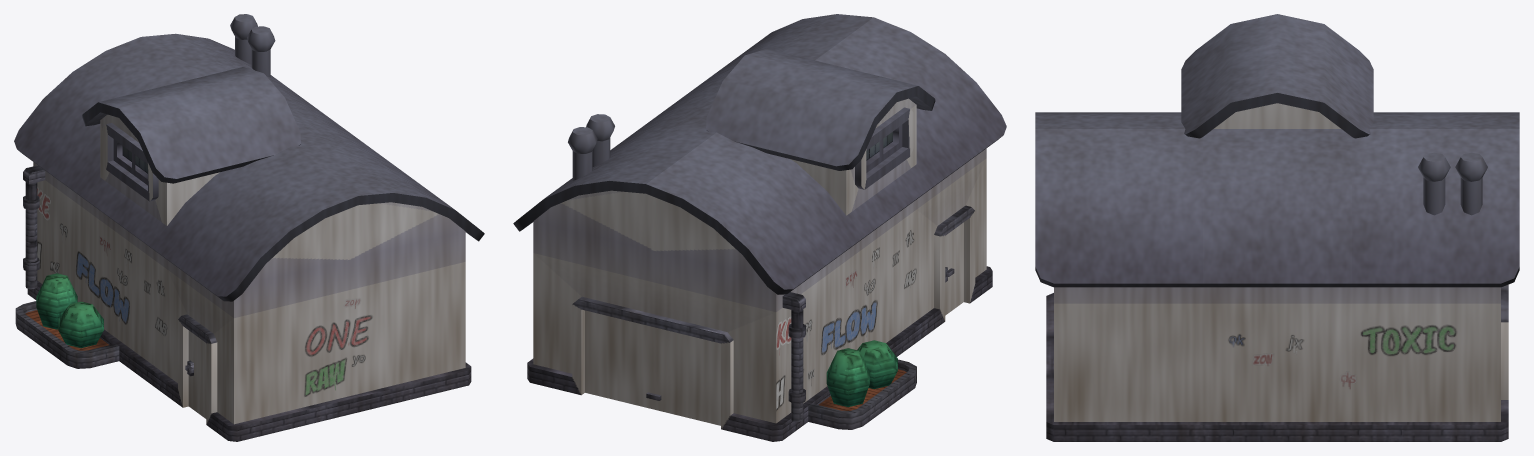
File: building-j-white-scuffed.glb
3 renders of one model, left to right at view 1: azimuth 30°, elevation 25°; view 2: azimuth 150°, elevation 25°; view 3: azimuth 270°, elevation 25°, orthographic. The views are drawn at different scales.
Visible parts, largest first — view 1: building-j; view 2: building-j; view 3: building-j.
Boxes of the visible parts, x1,y1,x2,y2 form: building-j: (14, 14, 484, 441); building-j: (513, 14, 1006, 441); building-j: (1035, 14, 1519, 441).
Size of the model in its own units: 1.03 by 0.8611 by 1.3.
1 material, 1 textured.
